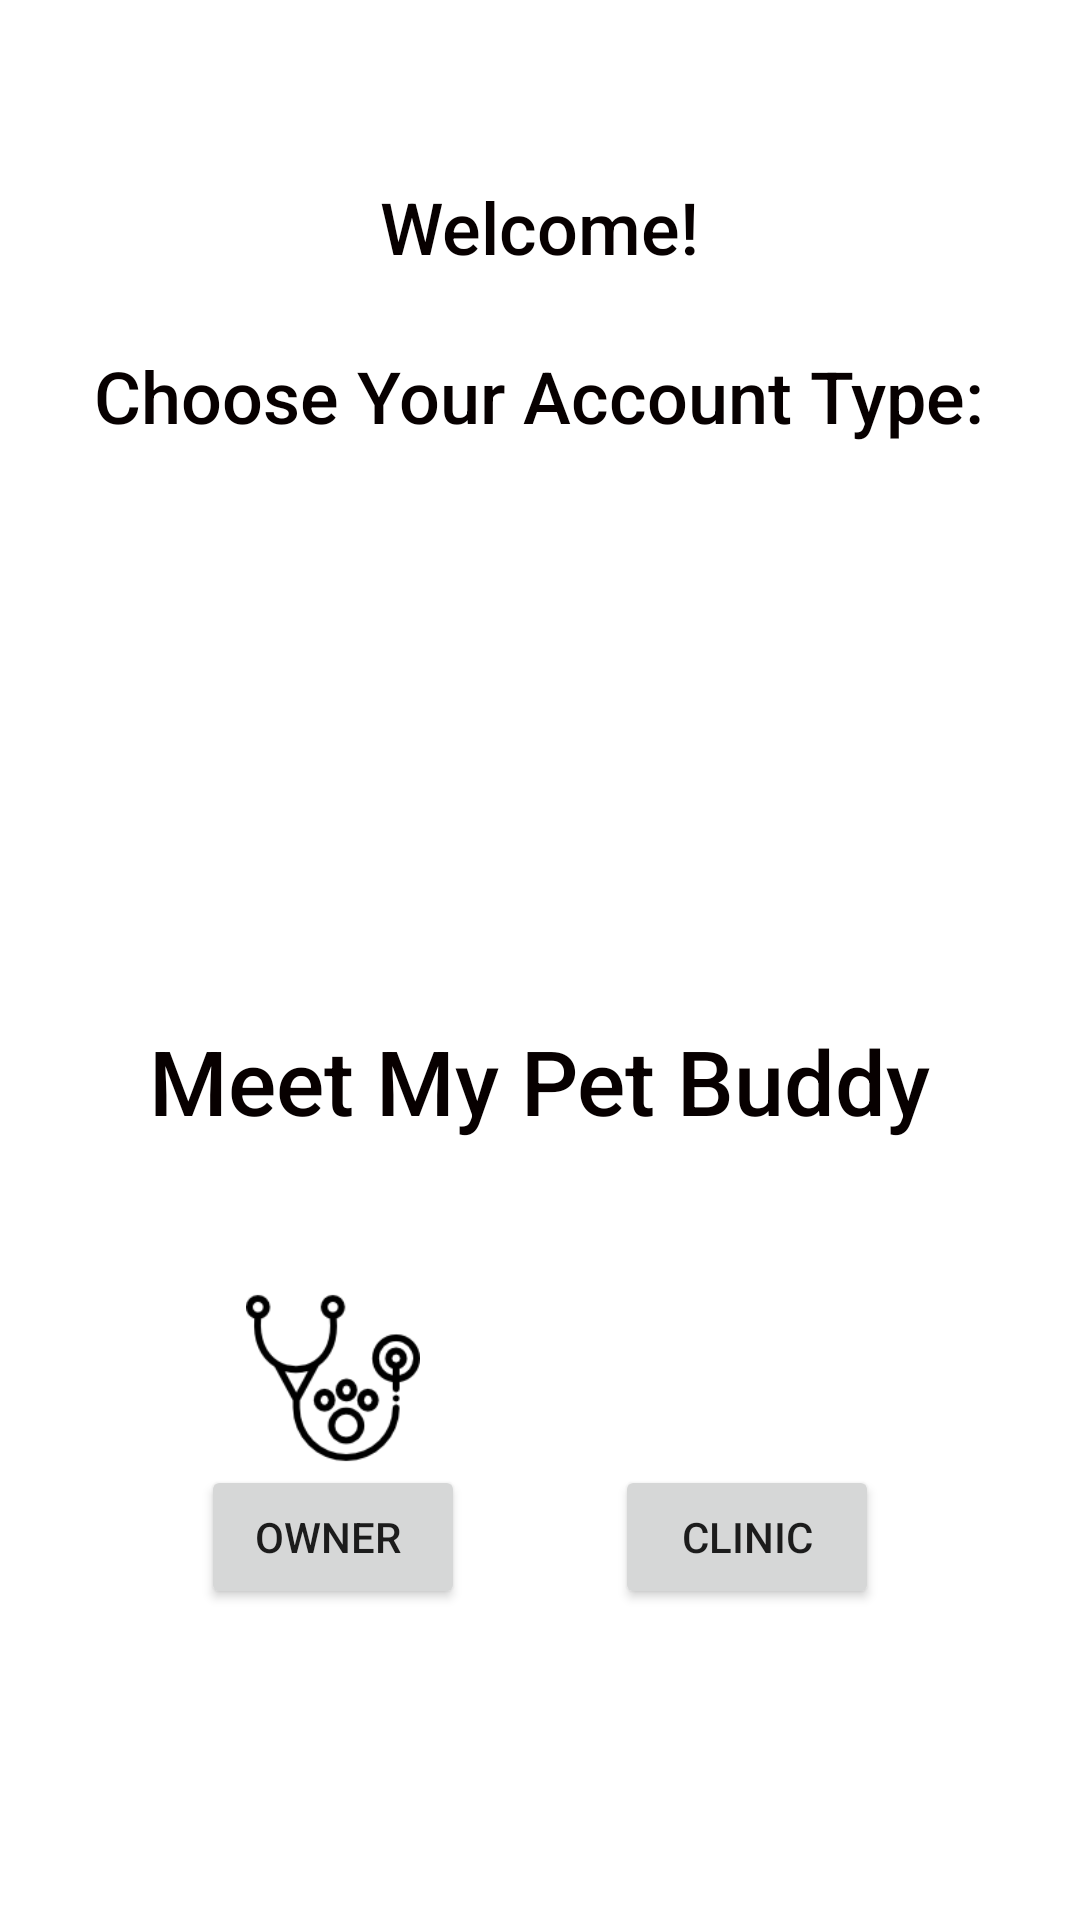

Screen size 1080 × 1920. Icon name, then its box in pixels as (x1, y1, x2, y2):
stethoscope: (246, 1295, 420, 1461)
